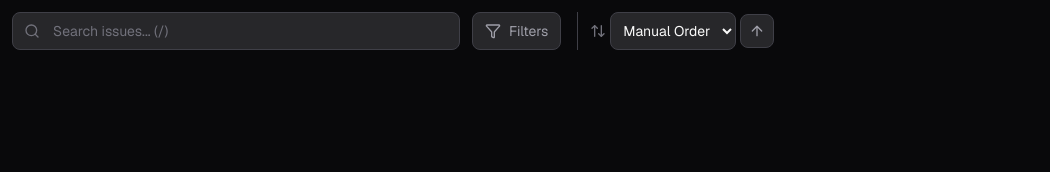
it: FilterBar › Filter Toggle › should show filter dropdowns when Filters button is clicked
This screenshot has width=1050, height=172.
Click the button "Filters": x=517, y=31 472,12 -> 561,50
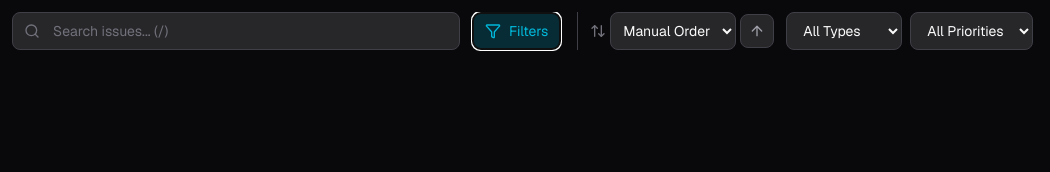
Expected: the 2nd dropdown showing "All Types" is shown, 786,12 -> 902,50
Expected: the 3rd dropdown showing "All Priorities" is shown, 910,12 -> 1033,50
